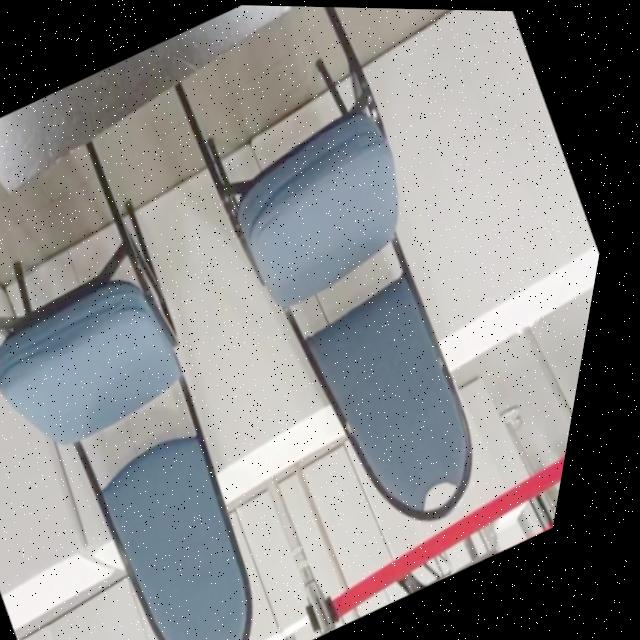sandalye: (178, 6, 488, 518), (0, 141, 273, 640)
